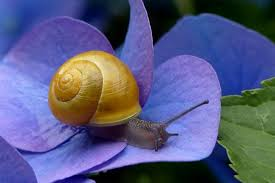snail: (50, 50, 195, 150)
